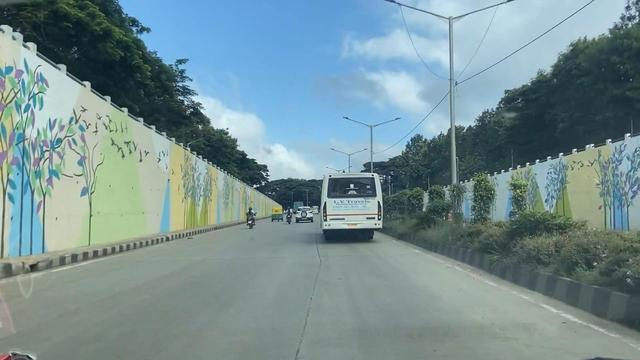HMV: (322, 178, 379, 239)
